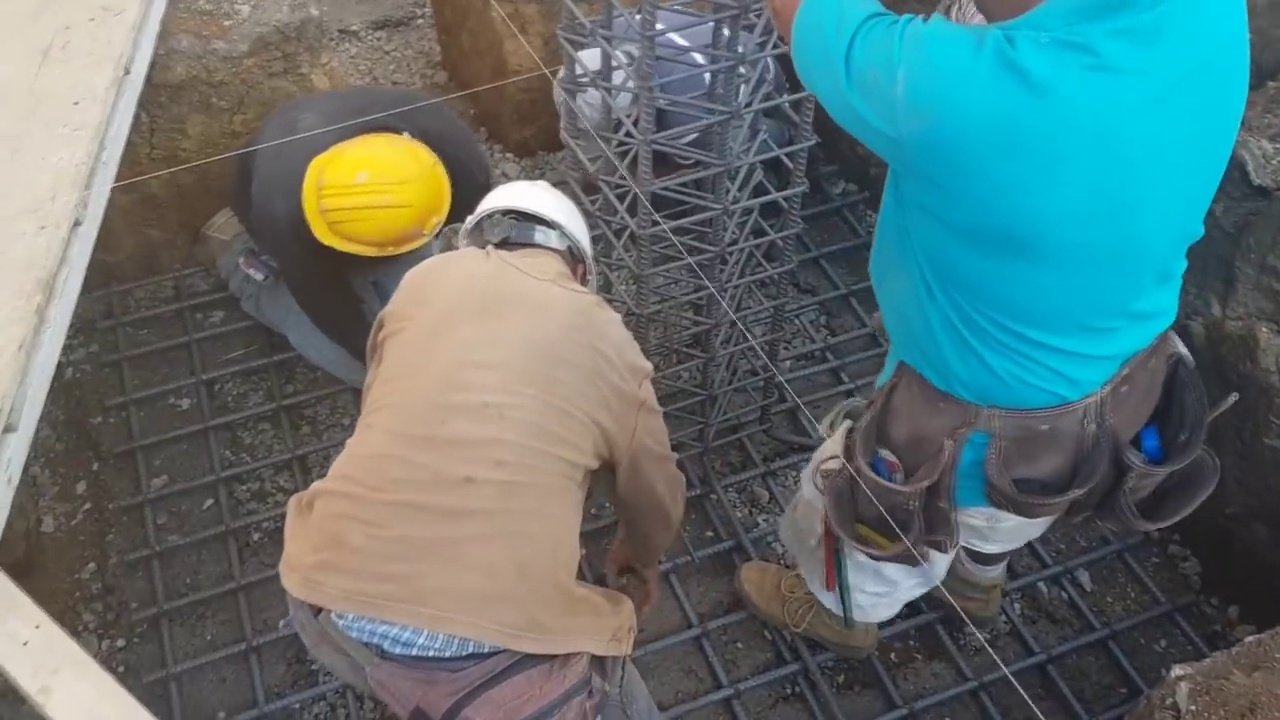helmet: (304, 131, 453, 263)
helmet-off: (549, 40, 649, 153)
helmet-on: (284, 115, 459, 281), (454, 175, 596, 290)
person: (746, 0, 1241, 700), (276, 168, 690, 720), (222, 88, 453, 376), (542, 2, 796, 228)
